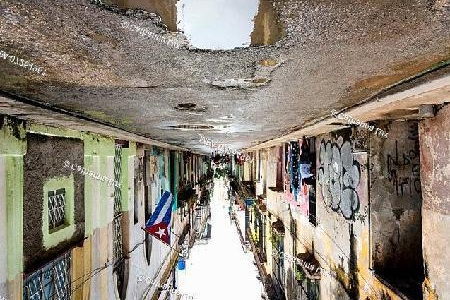pothole: (83, 2, 287, 55), (247, 56, 284, 93), (208, 76, 271, 93), (173, 101, 209, 114), (164, 124, 213, 132)
